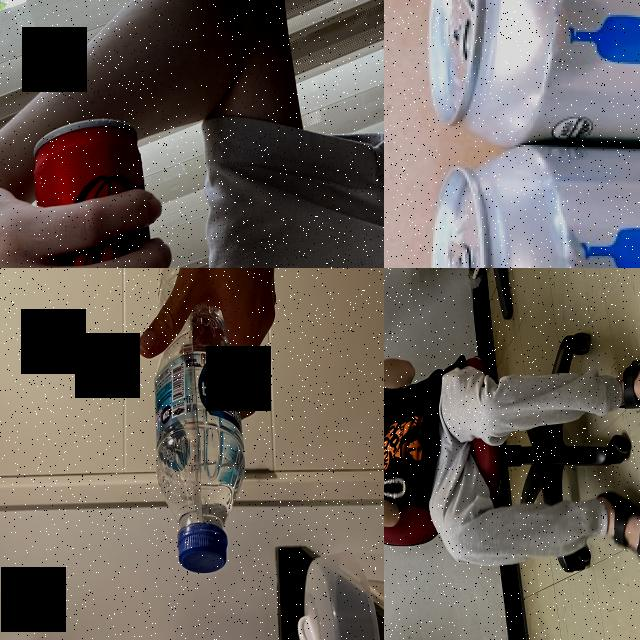bottle: (155, 268, 244, 577)
can: (428, 0, 640, 153), (429, 146, 640, 268), (31, 117, 181, 268)
